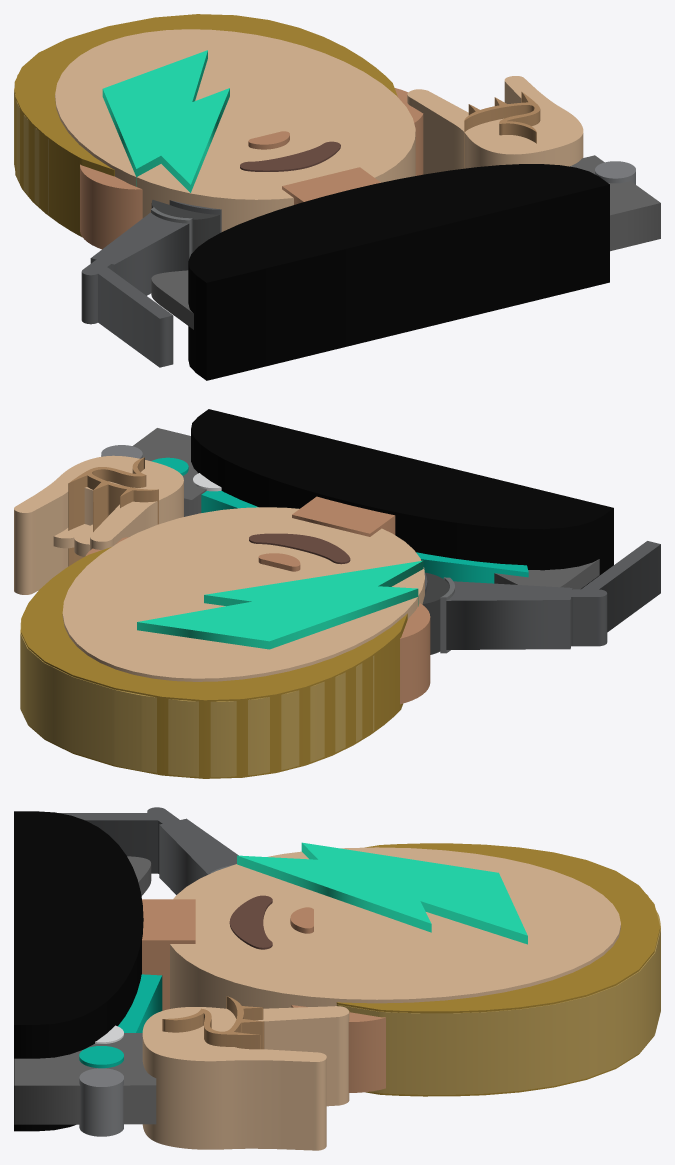
Rendered from emoji_u1f468_1f3fc_200d_1f3a4.glb.
3 views of the same model, one above another, from view 1: azimuth 30°, elevation 25°; view 2: azimuth 150°, elevation 25°; view 3: azimuth 270°, elevation 25° (orthographic). The views are drawn at different scales.
Visible parts, largest first — view 1: emoji_u1f468_1f3fc_200d_1f3a4; view 2: emoji_u1f468_1f3fc_200d_1f3a4; view 3: emoji_u1f468_1f3fc_200d_1f3a4.
Boxes of the visible parts, box(x1,y1,x2,y2) form: emoji_u1f468_1f3fc_200d_1f3a4: box(14, 14, 660, 380); emoji_u1f468_1f3fc_200d_1f3a4: box(14, 409, 660, 778); emoji_u1f468_1f3fc_200d_1f3a4: box(14, 807, 660, 1150).
Bounding box in the file's own units: 0.0337 × 0.0064 × 0.0331.
